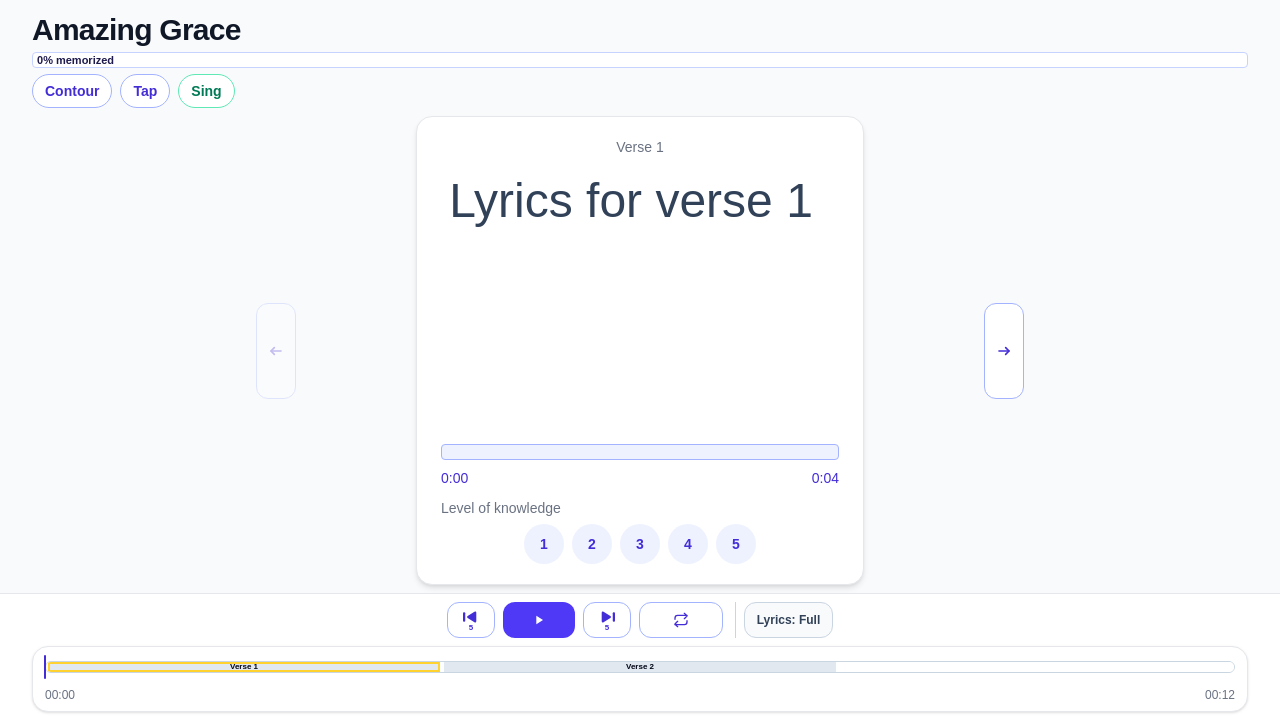
Scenario: PracticeView › shows cumulative and per-segment scores during a Sing run
This screenshot has width=1280, height=720.
What coordinates should you click on to do the following:
click the button with test id "practice-sing-mode-toggle"
I would click on:
 (206, 91)
Its box is [178,74,235,108].
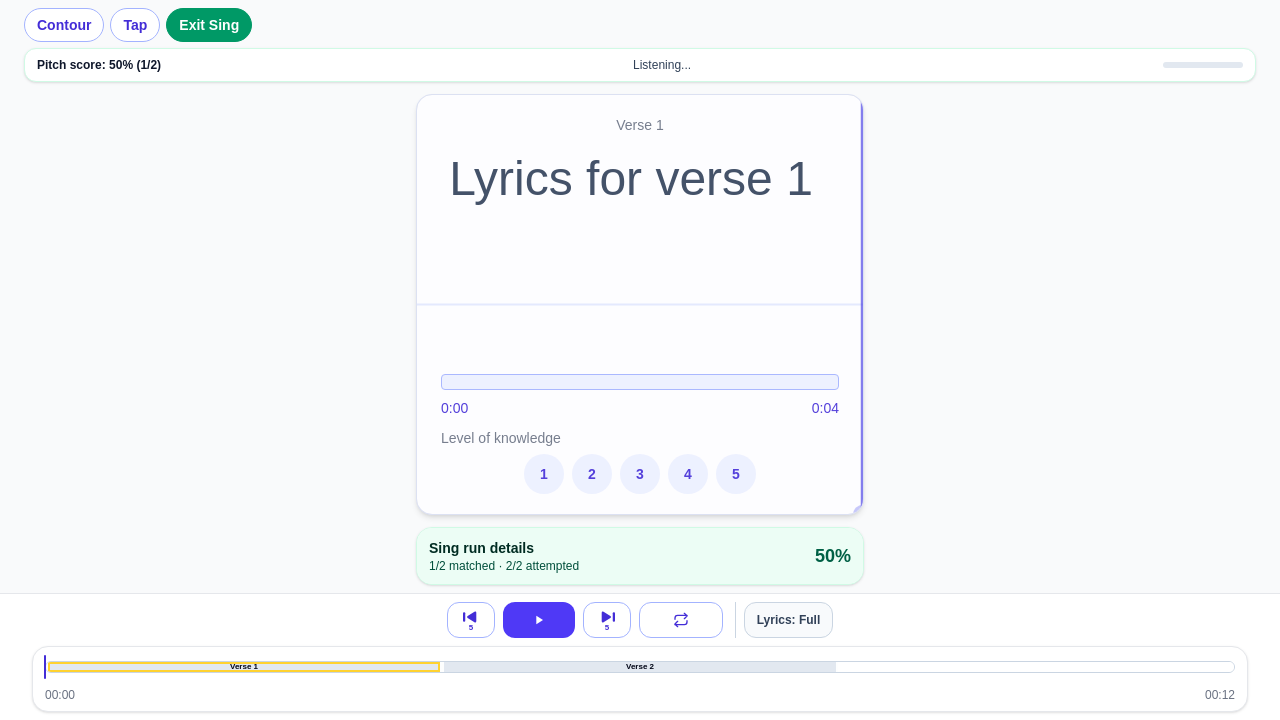
Now the element with test id "practice-sing-scoreboard" is shown, box [416,527,864,585]
Now the text with test id "practice-sing-cumulative-score" reads "50%", box [815,542,851,570]
